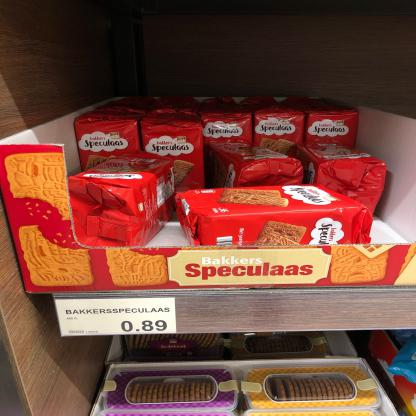prtg: (56, 299, 178, 337)
